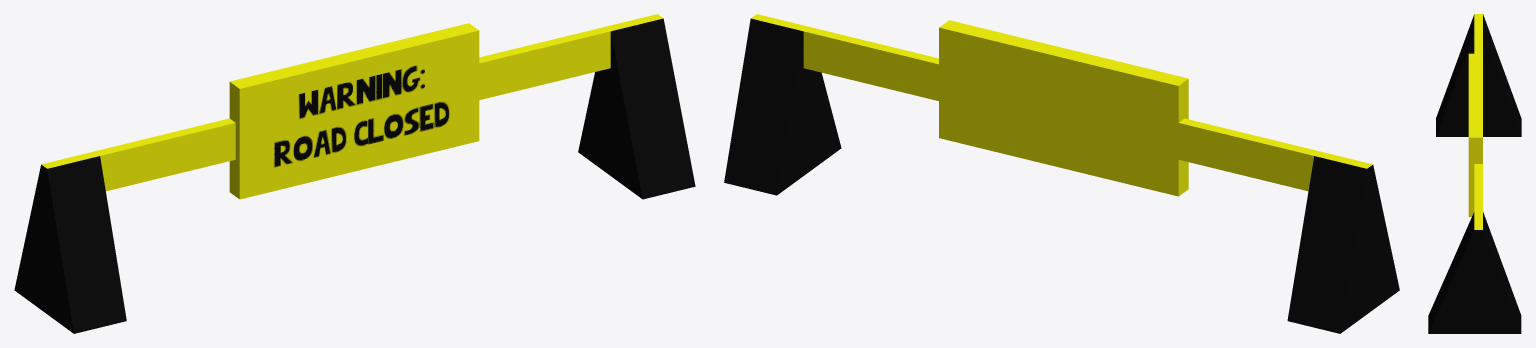
Rendered from barrier.obj.
3 renders of one model, left to right at view 1: azimuth 30°, elevation 25°; view 2: azimuth 150°, elevation 25°; view 3: azimuth 270°, elevation 25°, orthographic. The views are drawn at different scales.
Visible parts, largest first — view 1: Sketchup; view 2: Sketchup; view 3: Sketchup.
Part boxes in pixels (box(x1,y1,x2,y2)): Sketchup: box(14, 14, 695, 333); Sketchup: box(724, 14, 1399, 333); Sketchup: box(1428, 14, 1521, 333).
Bounding box in the file's own units: 1.75 × 0.4949 × 0.3188.
3 materials, 1 textured.
